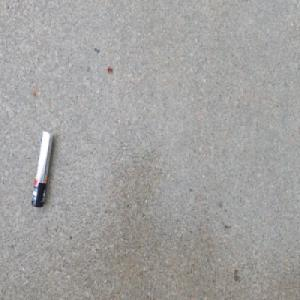Battery: (29, 129, 54, 212)
